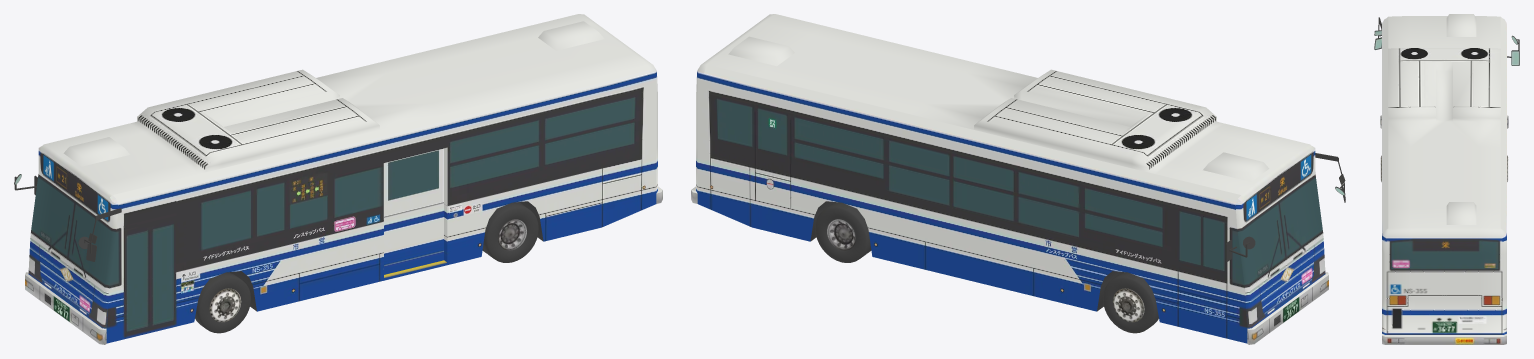
Rendered from japaneseBus-transformed.glb.
The picture shows the model from 3 angles, left to right: view 1: azimuth 30°, elevation 25°; view 2: azimuth 150°, elevation 25°; view 3: azimuth 270°, elevation 25°; orthographic projection. The views are drawn at different scales.
Parts seen in each view (by area): view 1: Cube.004_Nagoya_0; view 2: Cube.004_Nagoya_0; view 3: Cube.004_Nagoya_0.
Boxes of the visible parts, x1,y1,x2,y2 form: Cube.004_Nagoya_0: (14, 14, 662, 344); Cube.004_Nagoya_0: (691, 14, 1345, 344); Cube.004_Nagoya_0: (1374, 14, 1519, 344).
Bounding box in the file's own units: 10.88 × 3.11 × 2.9.
1 material, 1 textured.
